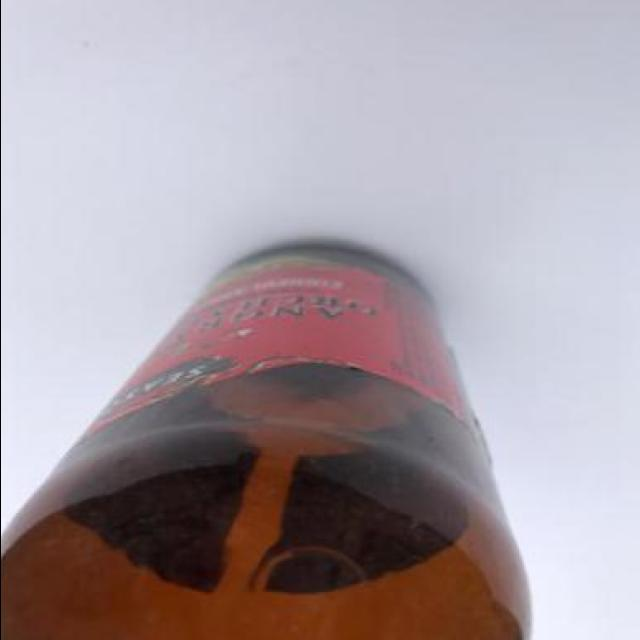kaca: (0, 239, 529, 640)
